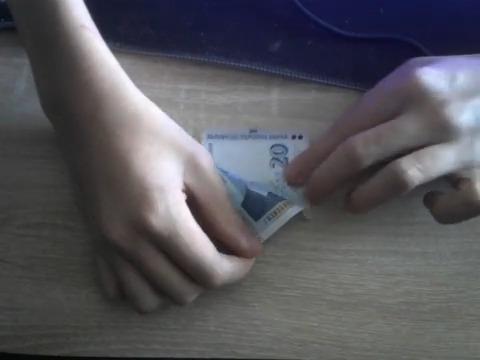20leva: (202, 130, 309, 243)
